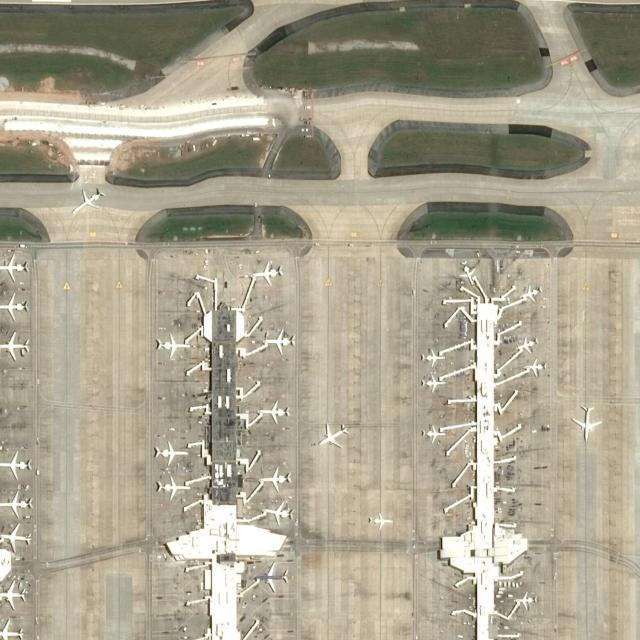Aircraft: (569, 403, 603, 443), (0, 447, 34, 483), (150, 331, 191, 360), (248, 258, 285, 290), (150, 438, 190, 467), (153, 471, 193, 499), (69, 185, 105, 216), (316, 420, 350, 452), (0, 326, 28, 364), (261, 327, 296, 357), (260, 497, 294, 527), (0, 522, 34, 552), (0, 490, 35, 519), (256, 464, 292, 491), (1, 253, 31, 284), (257, 398, 290, 426), (0, 578, 27, 612), (1, 292, 29, 322), (421, 421, 447, 444), (417, 345, 444, 367), (367, 510, 395, 531), (514, 332, 540, 354), (420, 372, 446, 394), (0, 616, 24, 639), (523, 355, 547, 377), (520, 284, 544, 304), (513, 592, 535, 610)
